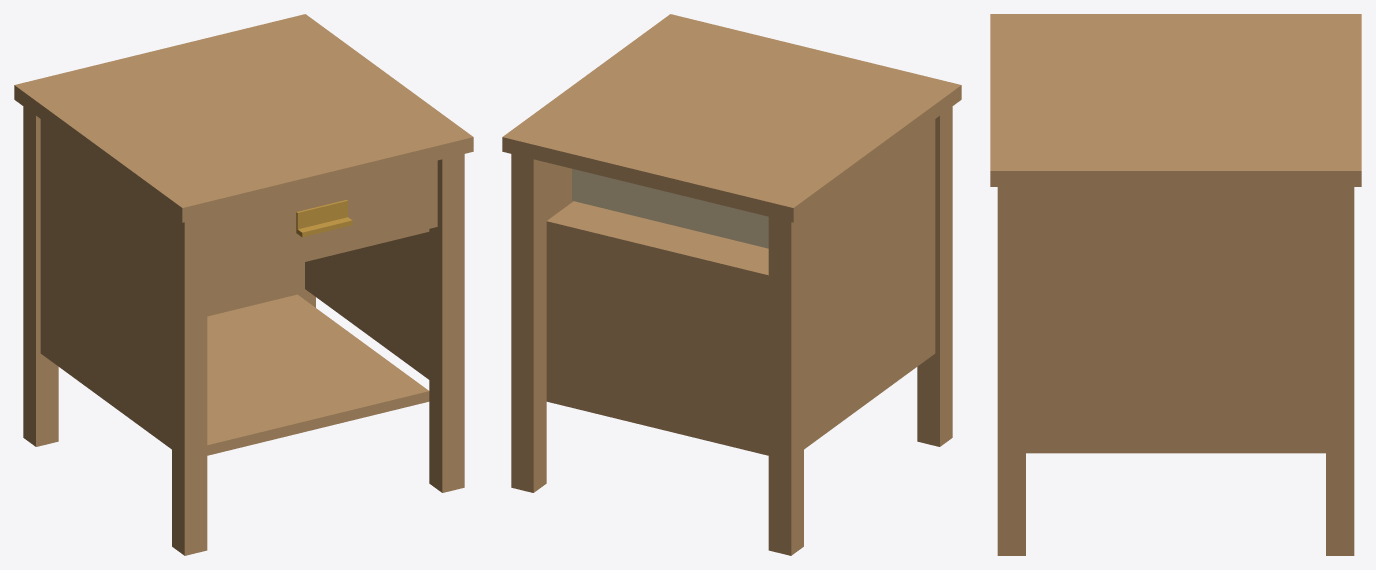
The model's file is 012_end_table_with_drawer.glb.
3 renders of one model, left to right at view 1: azimuth 30°, elevation 25°; view 2: azimuth 150°, elevation 25°; view 3: azimuth 270°, elevation 25°, orthographic. The views are drawn at different scales.
Visible parts, largest first — view 1: 004_top, 008_side_panel_l, 006_shelf_panel, 010_drawer_front, 002_leg, 003_leg, 009_side_panel_r, 000_leg, 007_back_panel, 016_drawer_pull_cup_plate, 005_shelf_panel; view 2: 004_top, 007_back_panel, 008_side_panel_l, 000_leg, 001_leg, 005_shelf_panel, 002_leg, 013_drawer_box_back, 006_shelf_panel, 009_side_panel_r; view 3: 009_side_panel_r, 004_top, 001_leg, 003_leg, 006_shelf_panel.
Part boxes in pixels (box(x1,y1,x2,y2)): 004_top: box(14, 14, 473, 222); 008_side_panel_l: box(40, 119, 171, 449); 006_shelf_panel: box(207, 294, 429, 455); 010_drawer_front: box(207, 160, 437, 282); 002_leg: box(172, 215, 207, 555); 003_leg: box(429, 154, 464, 492); 009_side_panel_r: box(305, 232, 429, 379); 000_leg: box(23, 106, 58, 446); 007_back_panel: box(207, 264, 297, 316); 016_drawer_pull_cup_plate: box(296, 200, 347, 230); 005_shelf_panel: box(207, 229, 429, 285); 004_top: box(502, 14, 961, 222); 007_back_panel: box(546, 232, 768, 445); 008_side_panel_l: box(804, 119, 935, 449); 000_leg: box(768, 215, 803, 555); 001_leg: box(511, 154, 546, 492); 005_shelf_panel: box(546, 201, 768, 285); 002_leg: box(917, 106, 952, 446); 013_drawer_box_back: box(578, 170, 768, 248); 006_shelf_panel: box(546, 391, 768, 455); 009_side_panel_r: box(546, 162, 573, 220); 009_side_panel_r: box(1026, 187, 1325, 451); 004_top: box(990, 14, 1361, 186); 001_leg: box(1326, 187, 1354, 555); 003_leg: box(997, 187, 1025, 555); 006_shelf_panel: box(1026, 451, 1325, 453).
Size of the model in its own units: 0.52 by 0.6 by 0.52.
